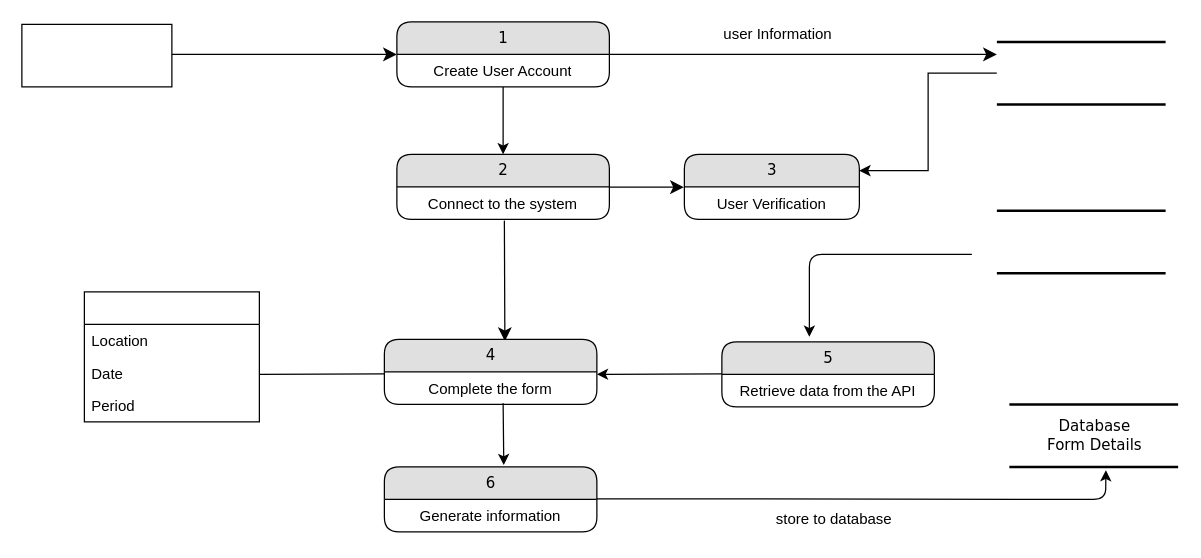
The diagram is 1201 pixels wide and 558 high, and some of its shapes have lost their labels. The box of each missing label's shape, as (x1, y1, x2, y2) in pixels:
Database User Records: (995, 40, 1166, 105)
Form Fields: (83, 291, 259, 422)
Prospective Users: (21, 23, 172, 87)
Weather API: (995, 209, 1166, 274)
